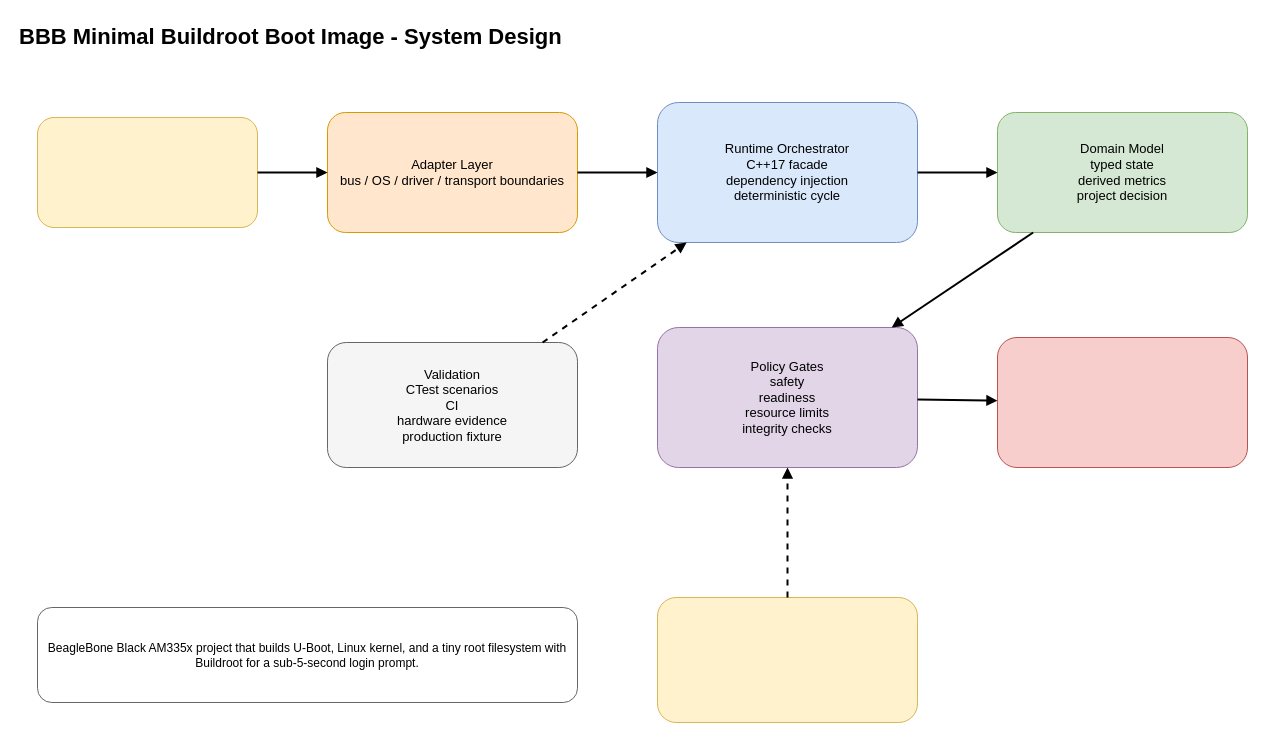
Image size: 1265x740. Some labels were removed from this diagram. Each missing label, with the box of its shape:
Evidence Outputs telemetry logs reports control/persistence: (996, 336, 1248, 468)
Input Sources hardware, simulator, commands: (36, 116, 258, 228)
Roadmap design package host runtime target adapters hardware evidence: (656, 596, 918, 722)
